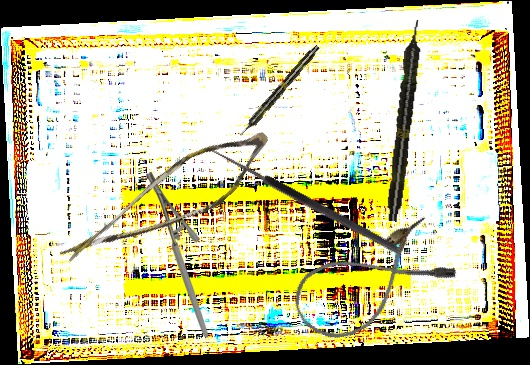Cannula: (283, 212, 461, 353)
Handpiece: (383, 18, 427, 223), (236, 43, 322, 139)
Hook Surgical: (203, 145, 402, 264)
Micro Scissor: (55, 97, 280, 310)
Needle Holder: (146, 171, 208, 338)
